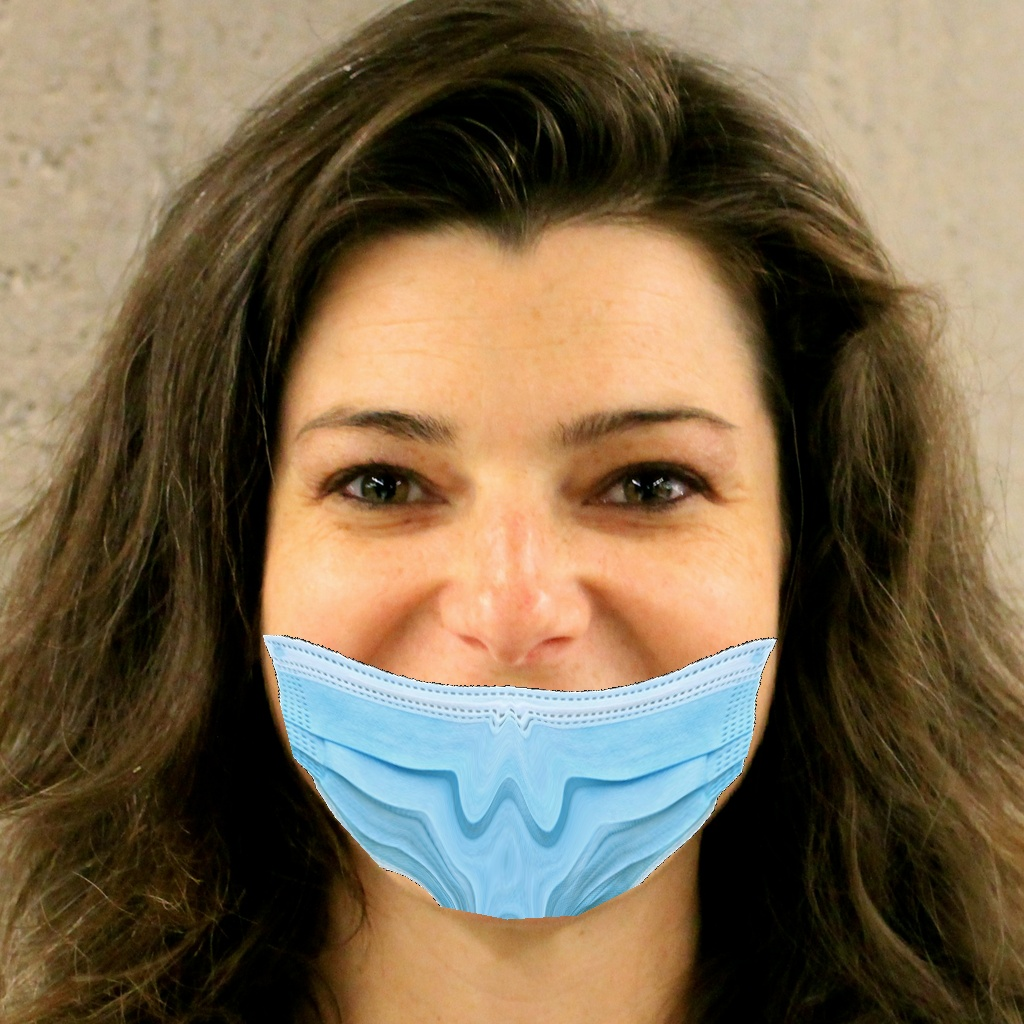mascarilla_mal_puesta: (264, 383, 767, 945)
